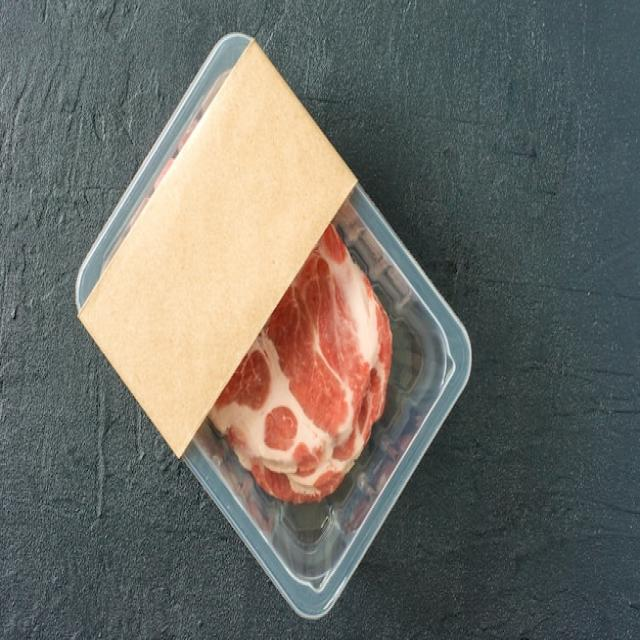pork: (51, 91, 445, 535)
